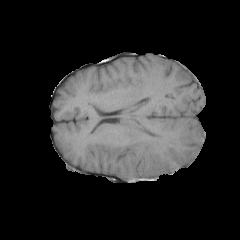glioma: (127, 134, 163, 180)
